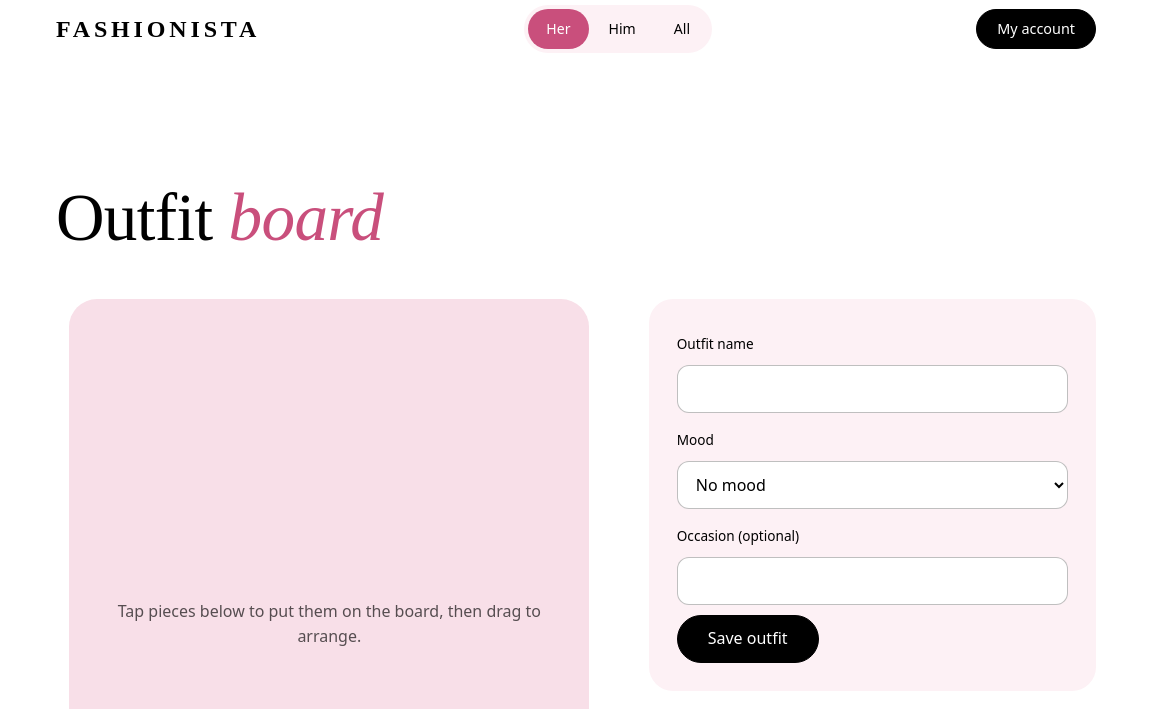
Outfit board › stops an empty outfit with clear errors and saves nothing
Click the button "Save outfit" at {"x": 748, "y": 639}, box [677,615,818,663]
(page scrolled)
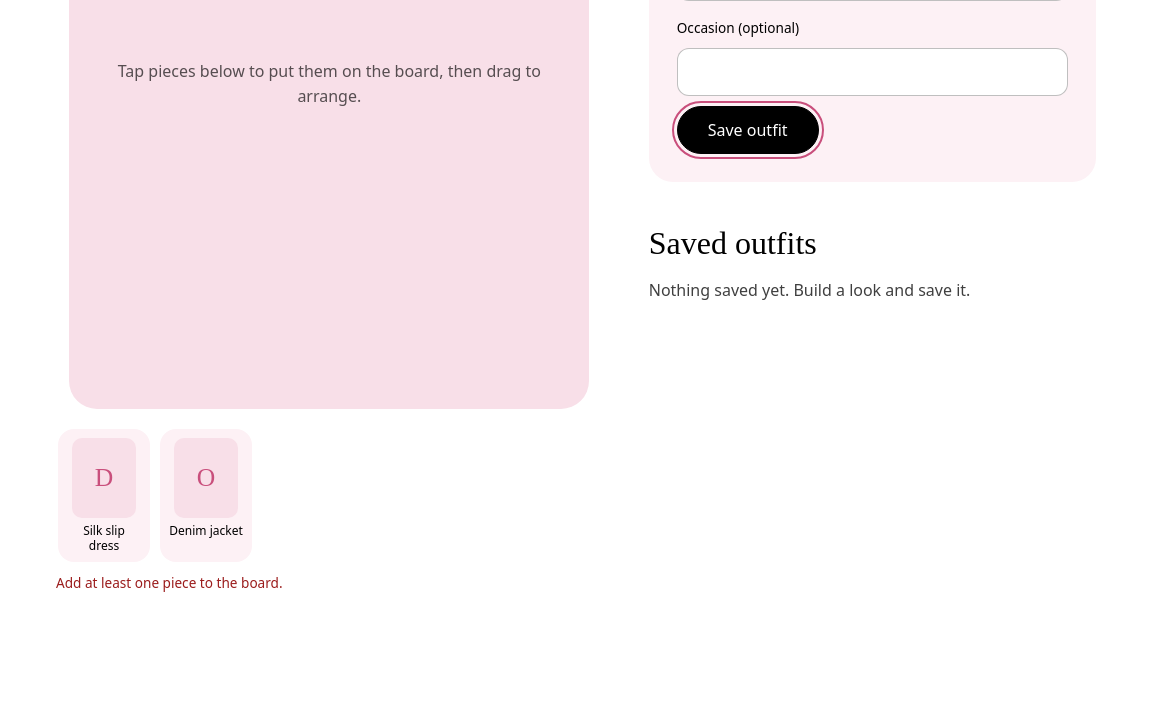
Expected: the text "Add at least one piece to the board." is shown, [56,573,283,592]
